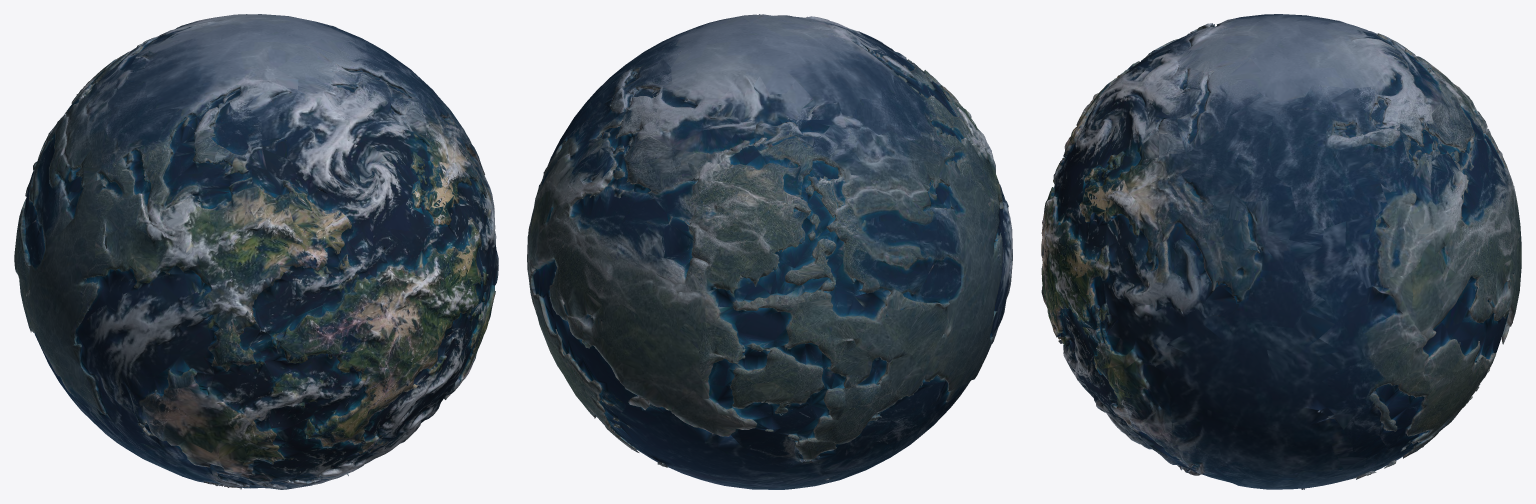
File: Planet.glb
3 renders of one model, left to right at view 1: azimuth 30°, elevation 25°; view 2: azimuth 150°, elevation 25°; view 3: azimuth 270°, elevation 25°, orthographic.
Parts seen in each view (by area): view 1: Mesh_0; view 2: Mesh_0; view 3: Mesh_0.
Boxes of the visible parts, x1,y1,x2,y2 form: Mesh_0: (14,14,498,489); Mesh_0: (527,14,1012,489); Mesh_0: (1041,14,1521,489).
Bounding box in the file's own units: 1.9 × 1.88 × 1.9.
Materials: 1 (1 with a texture image).
